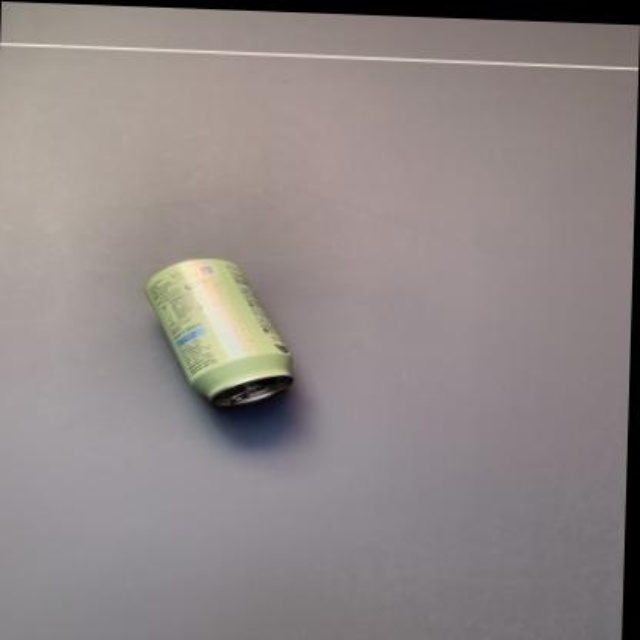trash: (148, 258, 292, 406)
